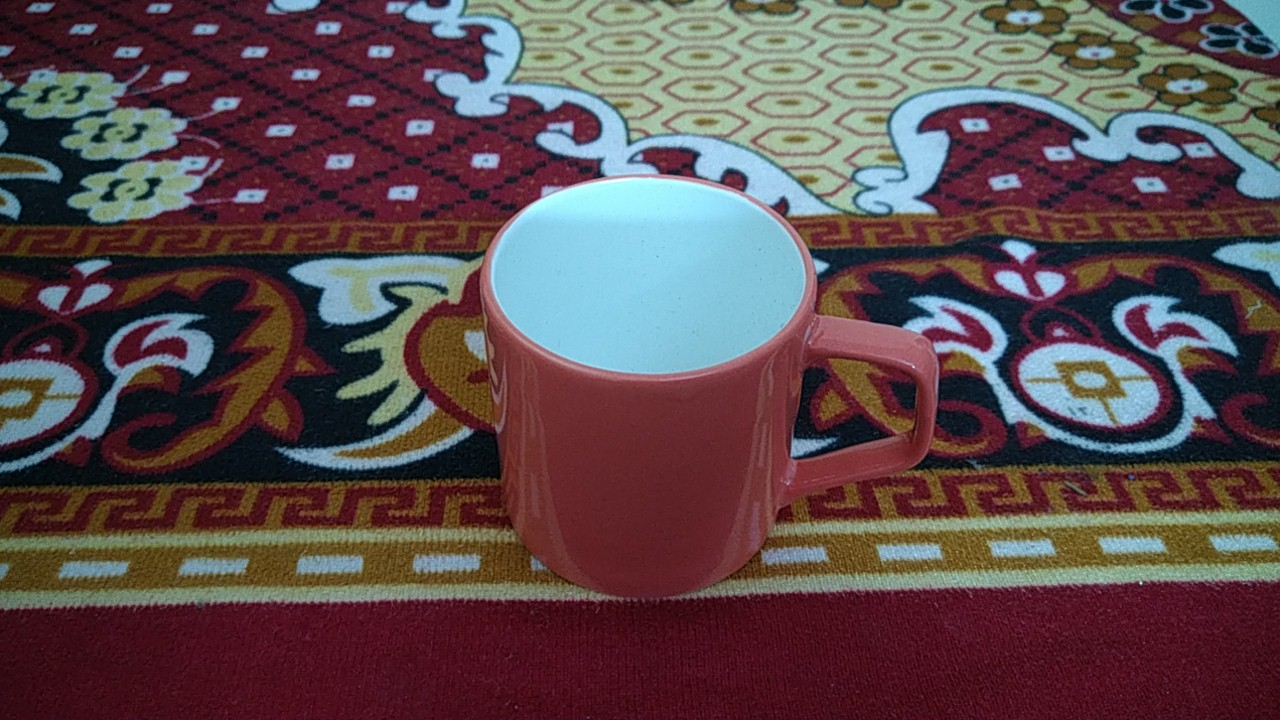cup: (461, 152, 956, 610)
